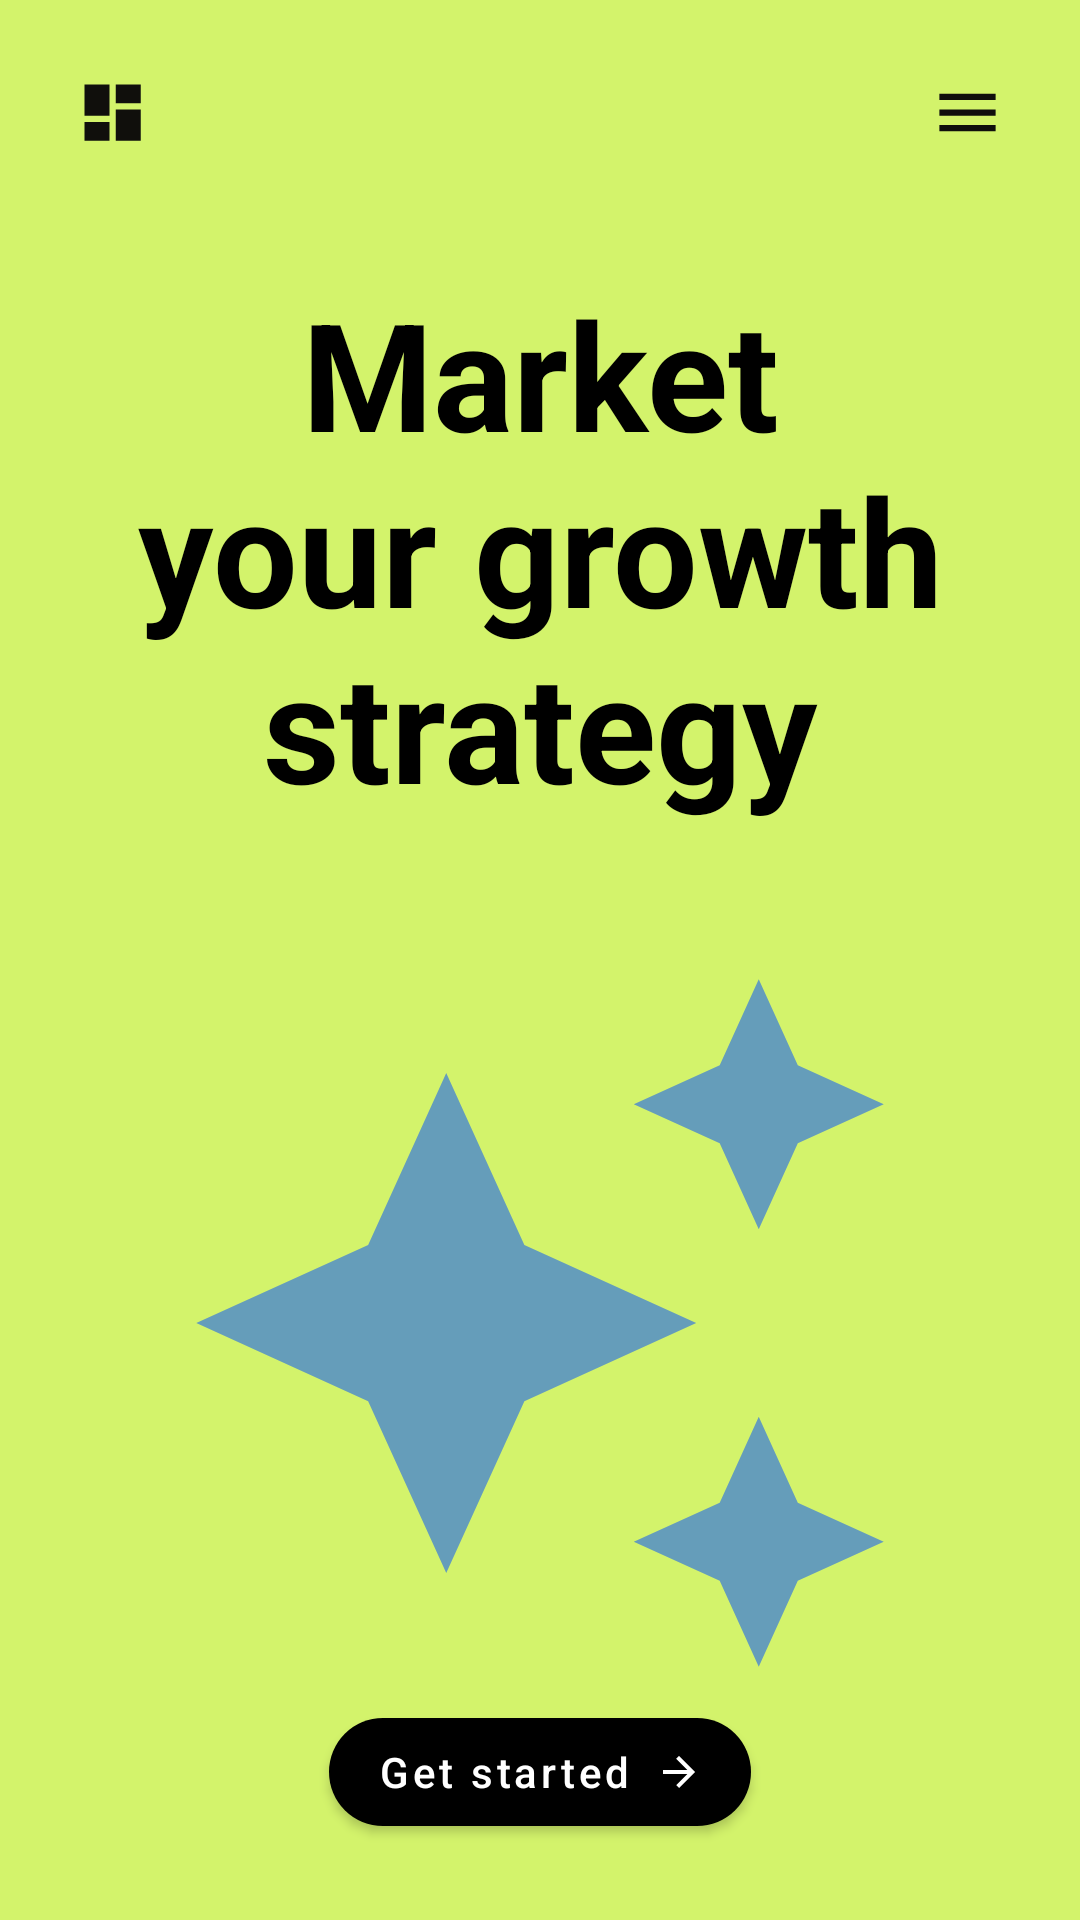

Icons on this 1080px×1920px Android screen, each with its box as (x1=x1, y1=y1, x2=x2, y2=y2):
dashboard: (x1=84, y1=84, x2=141, y2=141)
menu: (x1=939, y1=93, x2=996, y2=132)
